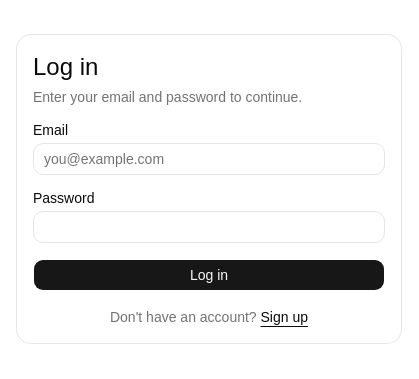
Test case: LoginPage › displays server errors from the mutation
Type "test@example.com" into the field with test id "login-email". click: [209, 159]
box: [33, 143, 385, 175]
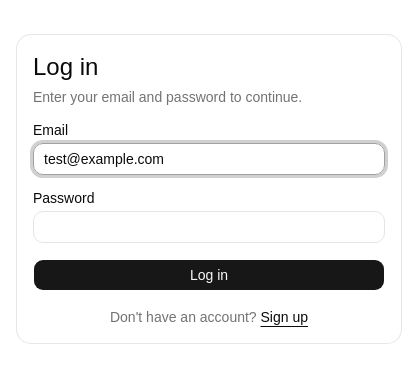
Type "wrongpassword" into the password field with test id "login-password". click: [209, 227]
box: [33, 211, 385, 243]
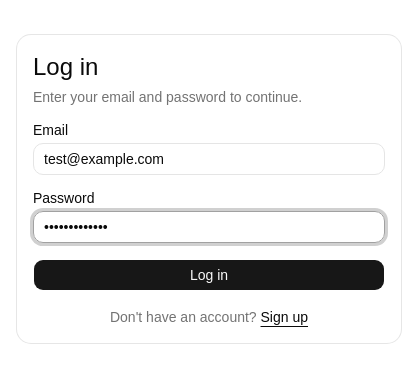
Click the button with test id "login-submit". click: [209, 275]
box: [33, 259, 385, 291]
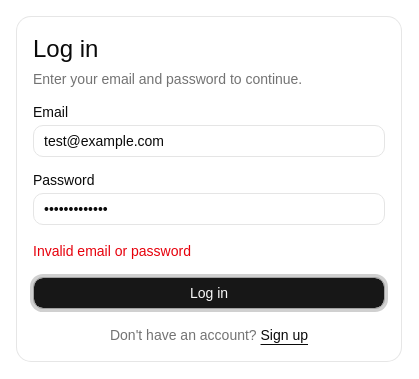
Expected: the text with test id "login-error" reads "Invalid email or password", [33, 243, 191, 259]
